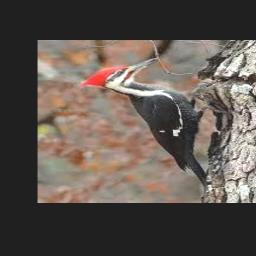Woodpecker: (80, 58, 209, 193)
